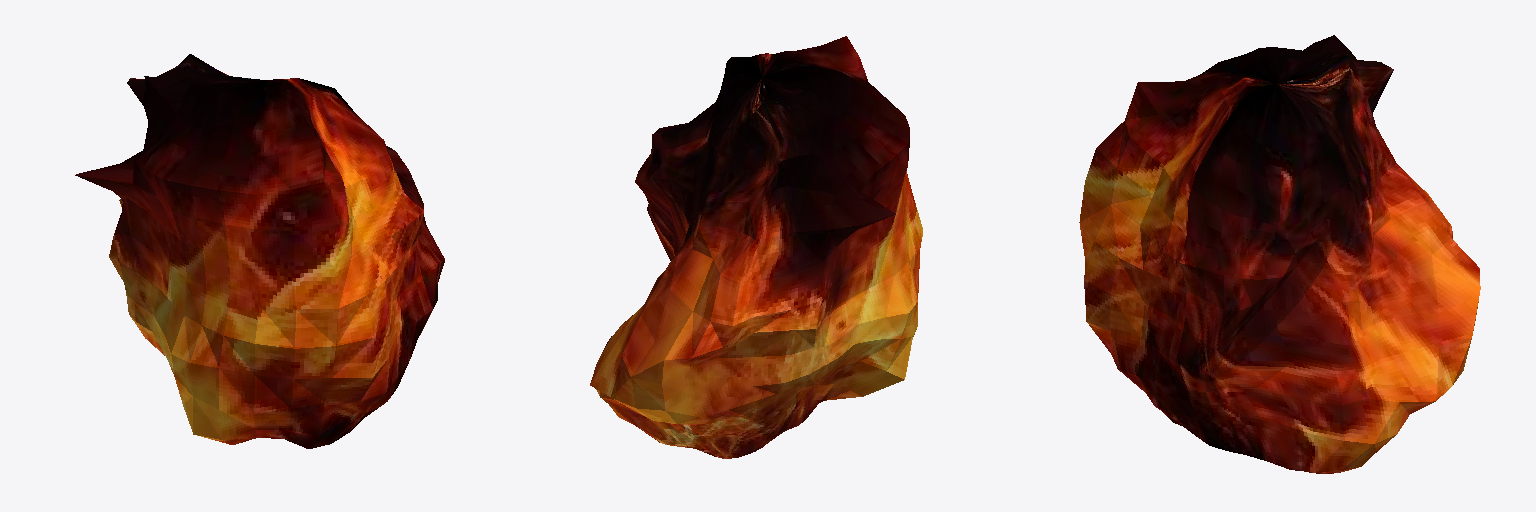
3 renders of one model, left to right at view 1: azimuth 30°, elevation 25°; view 2: azimuth 150°, elevation 25°; view 3: azimuth 270°, elevation 25°, orthographic.
Visible parts, largest first — view 1: 球.005; view 2: 球.005; view 3: 球.005.
Part boxes in pixels (x1,y1,x2,y2): 球.005: (75,54,444,448); 球.005: (590,36,922,458); 球.005: (1079,35,1480,473).
Size of the model in its own units: 0.1494 by 0.1706 by 0.1671.
Materials: 1 (1 with a texture image).